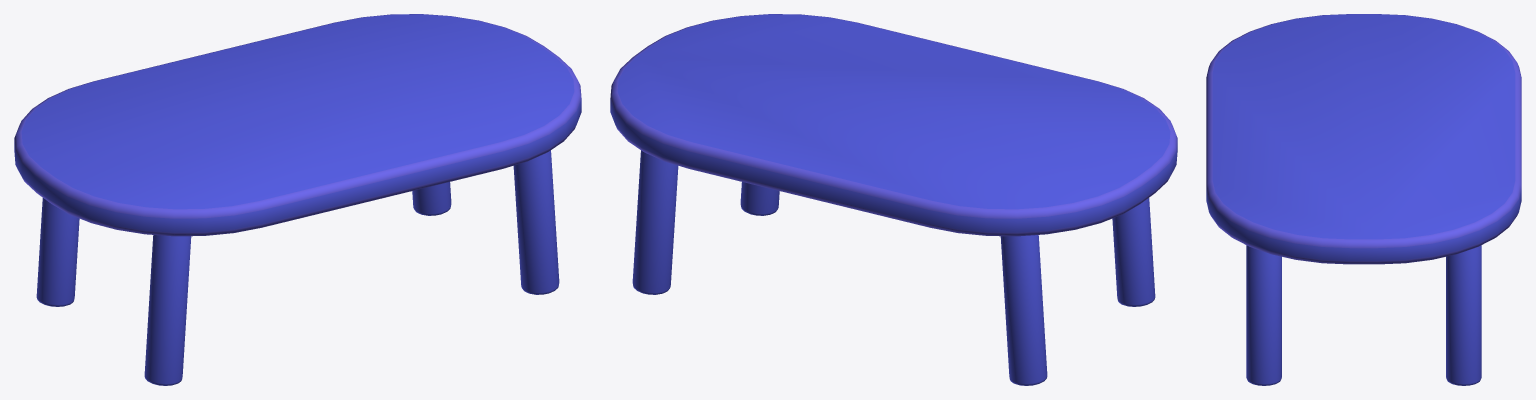
The model's file is TVTable.fbx.
3 renders of one model, left to right at view 1: azimuth 30°, elevation 25°; view 2: azimuth 150°, elevation 25°; view 3: azimuth 270°, elevation 25°, orthographic. The views are drawn at different scales.
Visible parts, largest first — view 1: TVTable, TVTable.001, TVTable.002, TVTable.003, TVTable.004; view 2: TVTable, TVTable.003, TVTable.004, TVTable.001, TVTable.002; view 3: TVTable, TVTable.002, TVTable.004.
Boxes of the visible parts, x1,y1,x2,y2 form: TVTable: [14, 14, 581, 236]; TVTable.001: [144, 235, 191, 385]; TVTable.002: [513, 150, 559, 294]; TVTable.003: [36, 198, 79, 306]; TVTable.004: [412, 182, 451, 215]; TVTable: [610, 14, 1177, 236]; TVTable.003: [1000, 235, 1047, 385]; TVTable.004: [632, 150, 678, 294]; TVTable.001: [1112, 198, 1155, 306]; TVTable.002: [740, 182, 779, 215]; TVTable: [1206, 14, 1521, 264]; TVTable.002: [1246, 245, 1281, 385]; TVTable.004: [1446, 245, 1481, 385].
Bounding box in the file's own units: 295 × 101 × 171.
